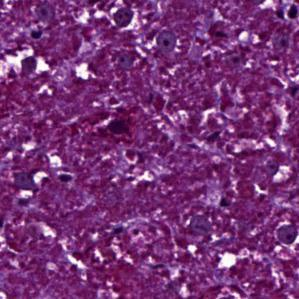inflammation: (12, 49, 50, 80), (106, 3, 138, 31), (271, 217, 299, 248)
